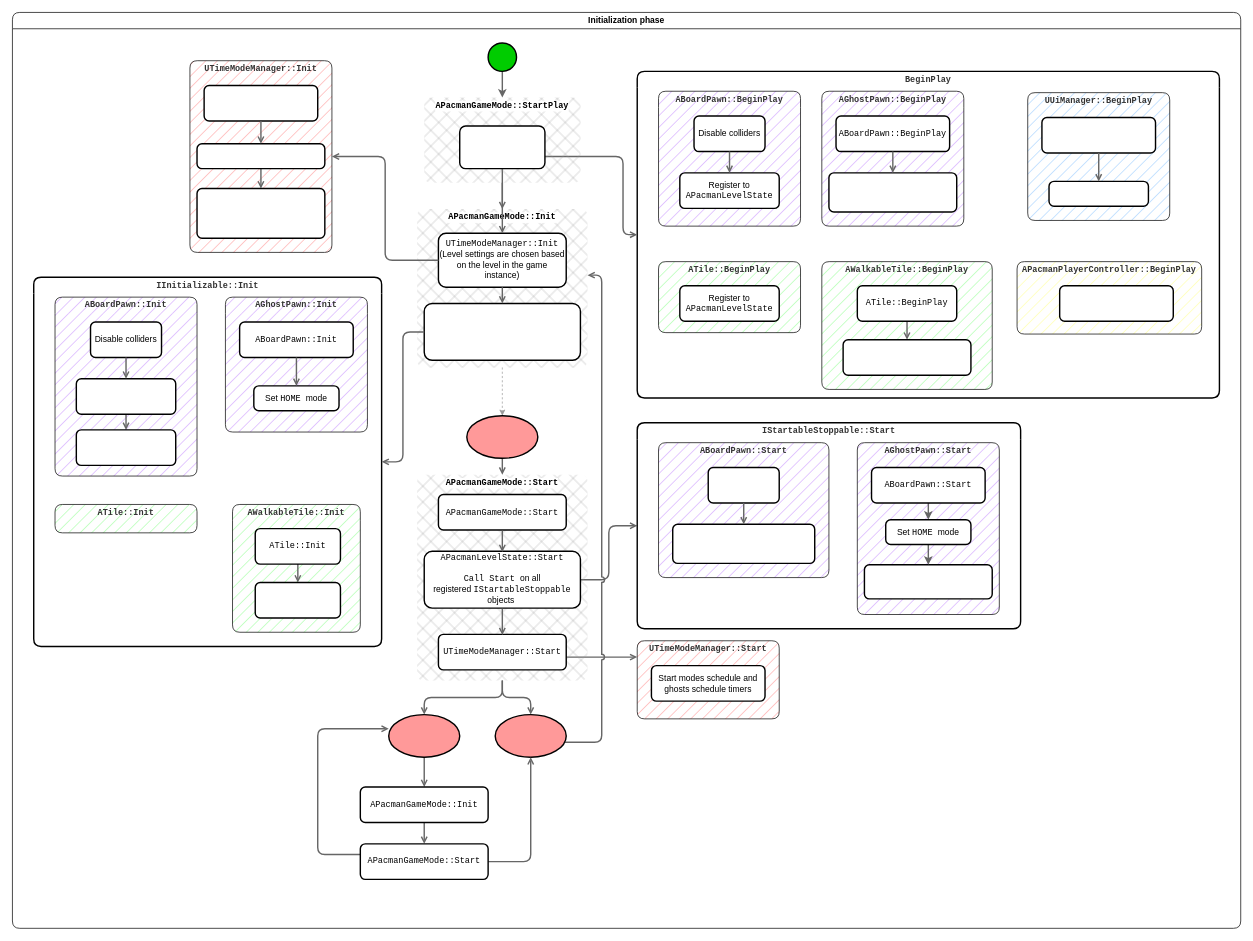
This 1253x941 diagram has some shape labels left out. The shapes that lost their labels are listed below. From the top down, each one's centre as x and y in pixels, then its label:
the point at 260,102: Clear all timers, schedule progresses and settings
the point at 502,147: Call BeginPlay on all objects
the point at 1098,134: Create the UIs (do not show them)
the point at 260,156: Set CurrentLevelSettings
the point at 892,192: Spawn AGhostAiController and let it possess this
the point at 1098,193: Show MainMenu
the point at 260,213: Apply settings to the AGhostPawns and APacmanPawn (e.g. speed, cooldowns, ...)
the point at 1116,303: Find the APacmanPawn (there should be only one) and Possess it
the point at 502,331: APacmanLevelState::Init Call Init on all registered IInitializable objects
the point at 906,357: Resize and position UTileFullTrigger and UTileCentralTrigger
the point at 125,396: Set CurrentTile to SpawnTile
the point at 125,447: Place on SpawnTile
the point at 502,437: Play clicked
the point at 743,484: Enable colliders
the point at 743,543: Tell UBoardPawnMovementComponent it can start moving this
the point at 297,599: SpawnFood
the point at 928,581: Call OnNewTile to start moving
the point at 424,736: Level cleared
the point at 530,736: Game over
